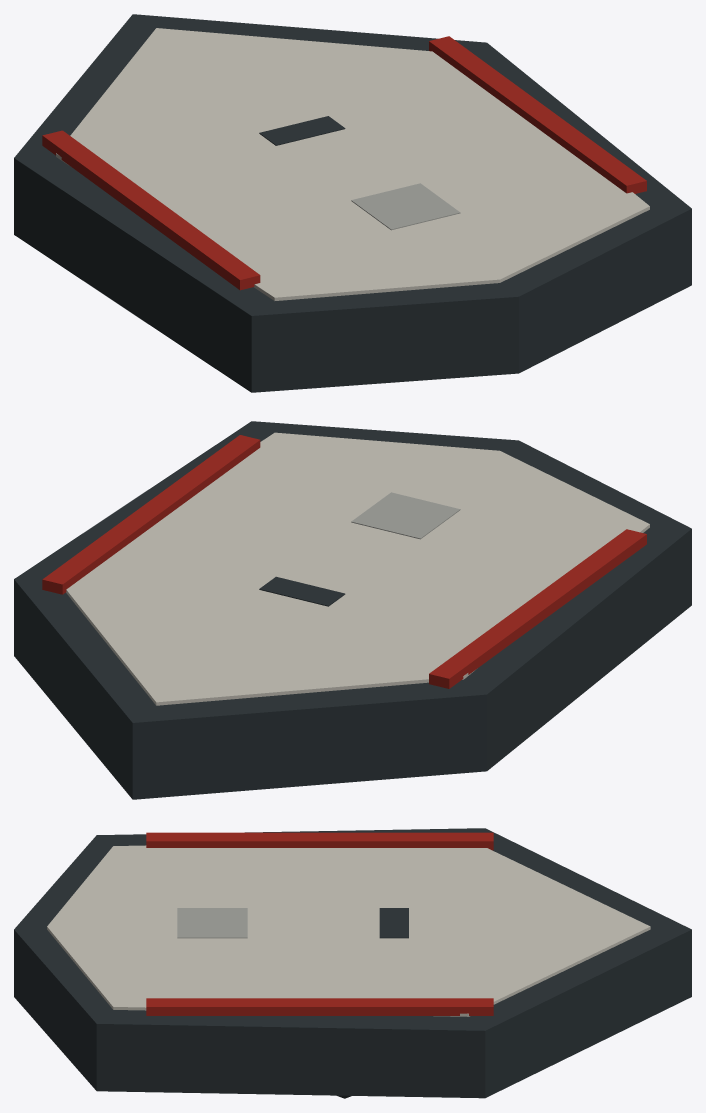
3 renders of one model, top to bottom at view 1: azimuth 30°, elevation 25°; view 2: azimuth 150°, elevation 25°; view 3: azimuth 270°, elevation 25°, orthographic. The views are drawn at different scales.
Parts seen in each view (by area): view 1: weapon-aegis-shield-painted; view 2: weapon-aegis-shield-painted; view 3: weapon-aegis-shield-painted.
Part boxes in pixels (x1,y1,x2,y2): weapon-aegis-shield-painted: [14, 14, 691, 392]; weapon-aegis-shield-painted: [14, 421, 691, 799]; weapon-aegis-shield-painted: [14, 828, 691, 1098].
Size of the model in its own units: 3.05 by 0.9632 by 4.32.
